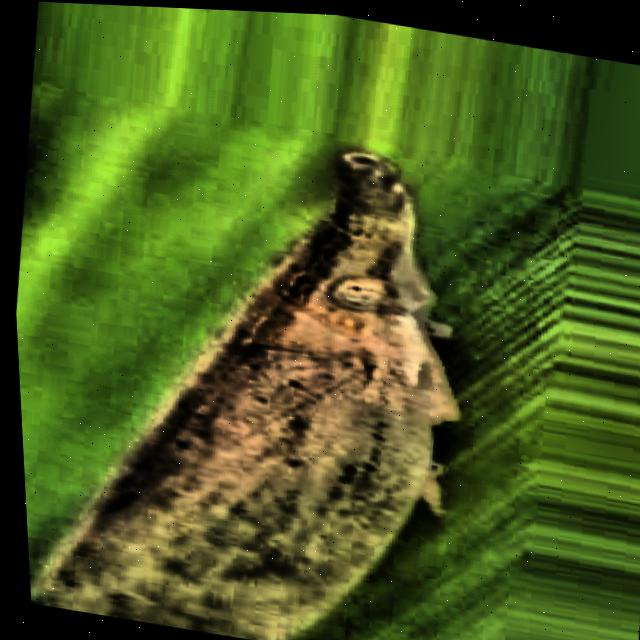Pyrilla-perpusilla: (3, 82, 536, 640)
